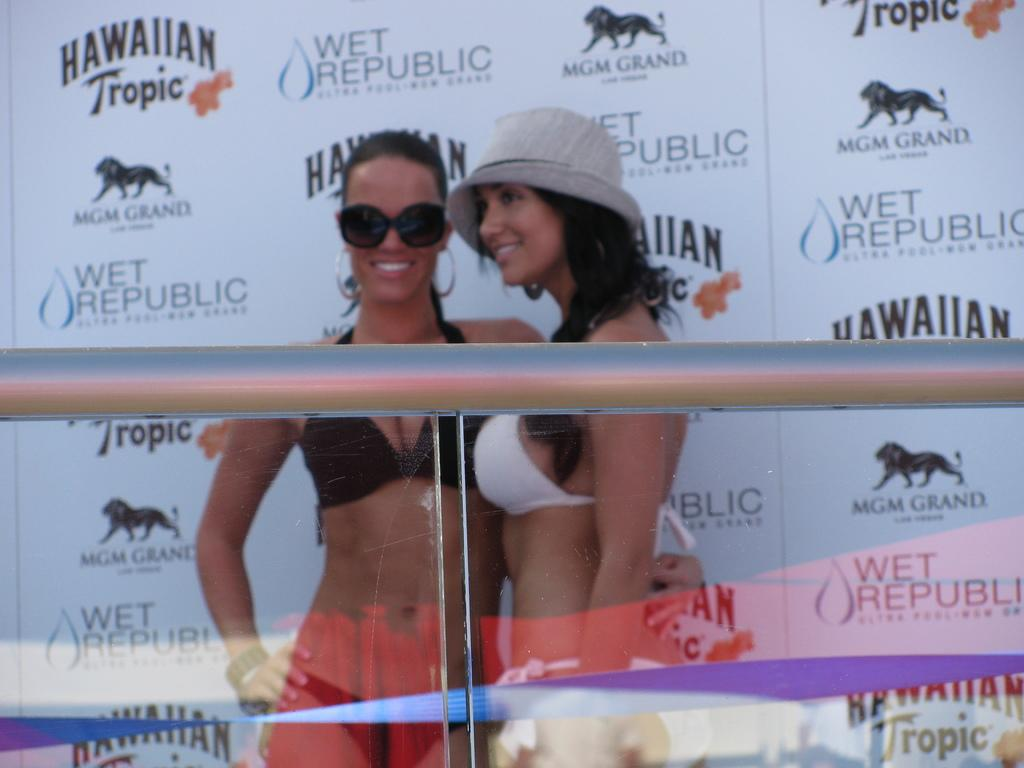Hat: (444, 107, 644, 254)
